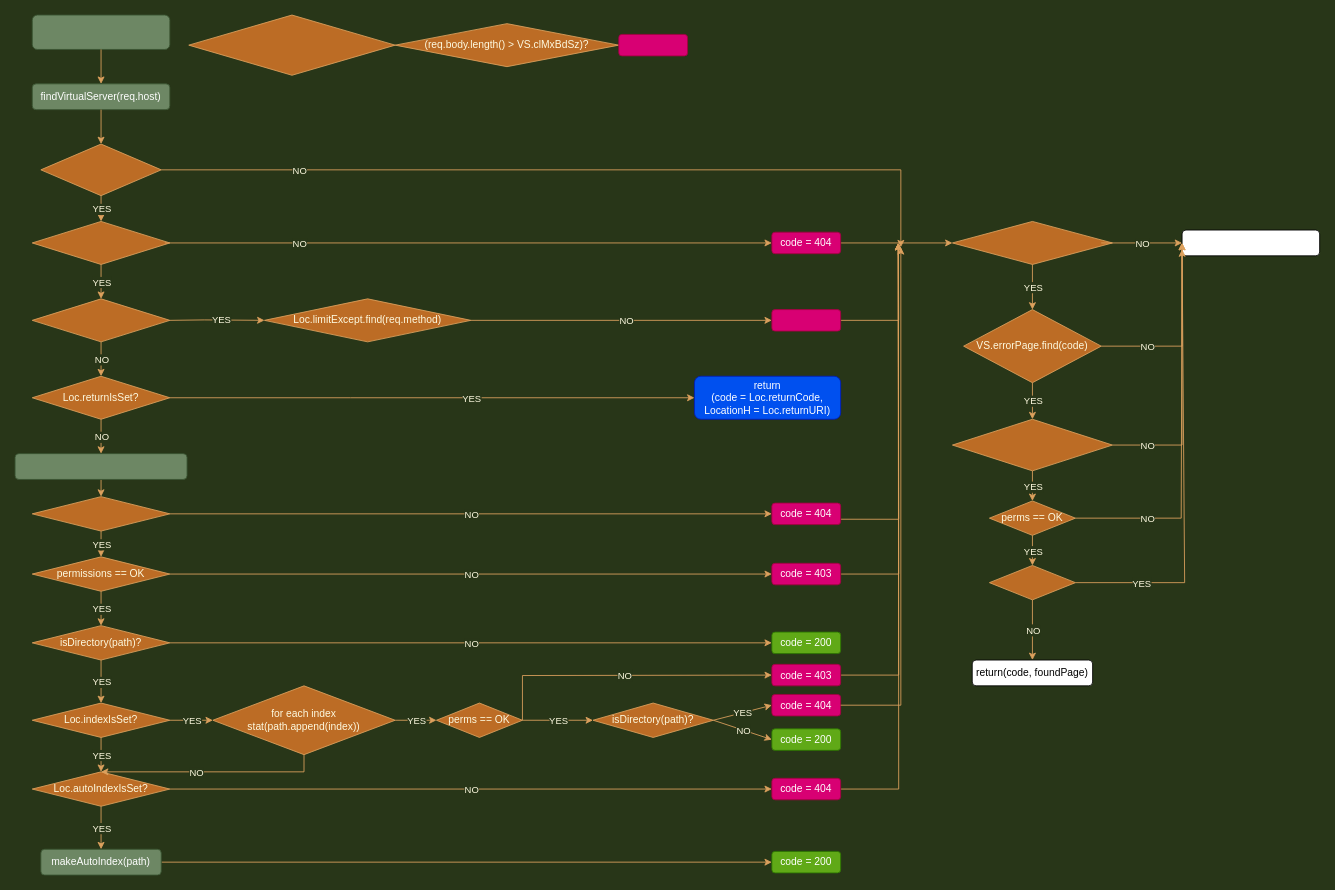
The diagram is 1335 pixels wide and 890 high, and some of its shapes have lost their labels. Here are the shapes that lost their labels. From the top down, the centre of each, then its label:
point (100, 31): code = req.parser()
point (291, 44): (method == POST && VS.clMxBdSzIsSet == true)?
point (653, 45): code = 413
point (100, 169): code == SUCCESS?
point (100, 242): findLocation(req.URI)
point (1032, 242): VS.errorPageIsSet?
point (1250, 242): return(code, defaultPage)
point (100, 320): Loc.limitExceptIsSet?
point (806, 320): code = 405
point (1032, 444): stat(errorPage[code].second)
point (100, 466): path = Loc.root.append(req.URI)
point (100, 513): stat(path)
point (1032, 582): isDirectory()?
